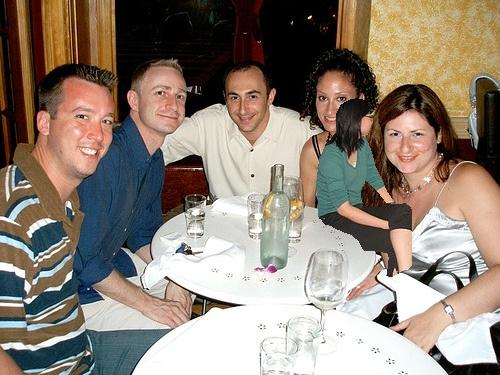tampered: (317, 99, 412, 278)
